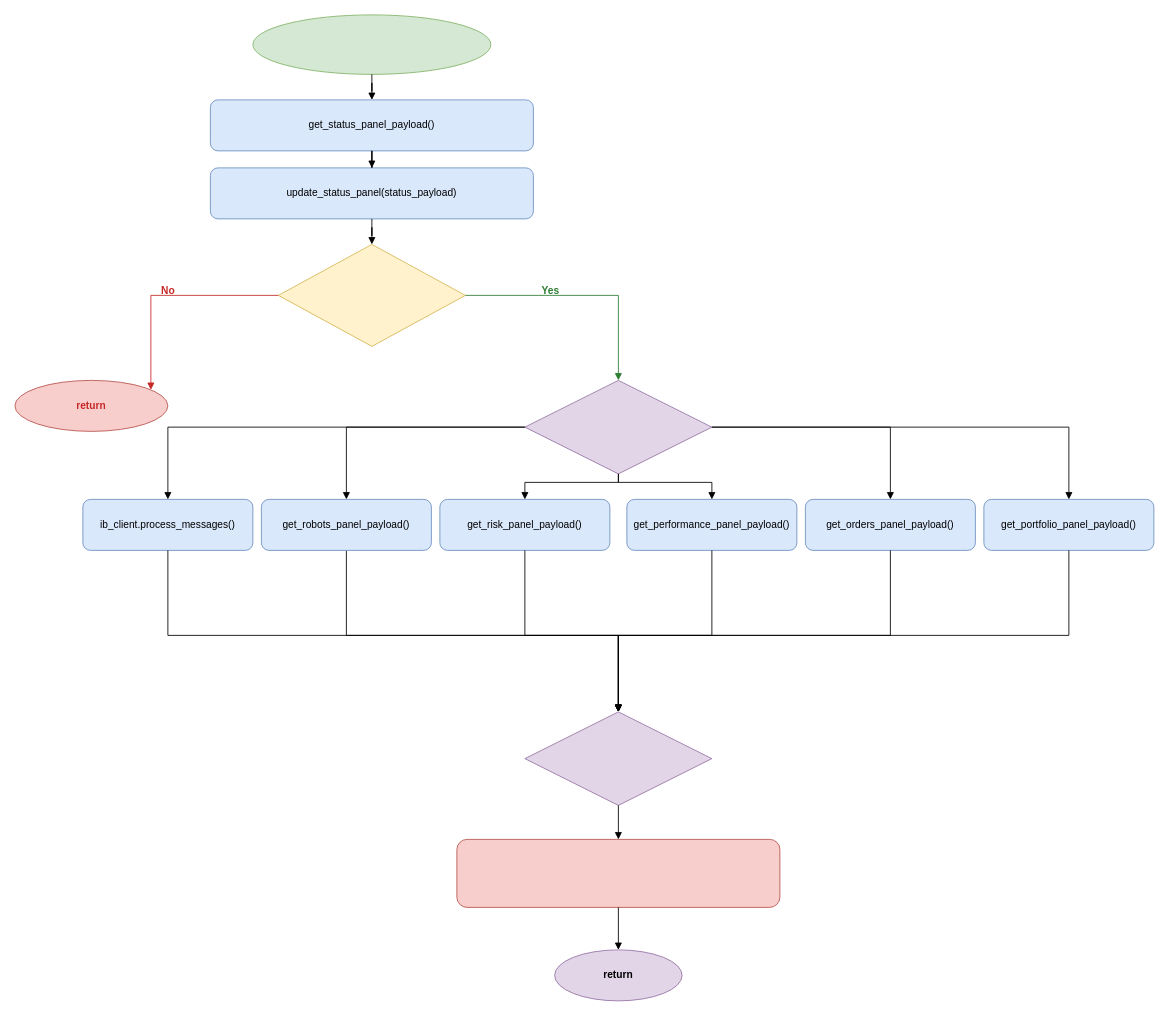
This 1169x1016 diagram has some shape labels left out. The centre of each missing label's shape, as x and y in pixels:
"connected?" belongs at pixel 371 295.
"parallel join" belongs at pixel 618 758.
"parallel split" belongs at pixel 618 427.
"QTimer.timeout -> qtimer_loop()" belongs at pixel 371 44.
"update_robot_manager(...)" belongs at pixel 618 873.
